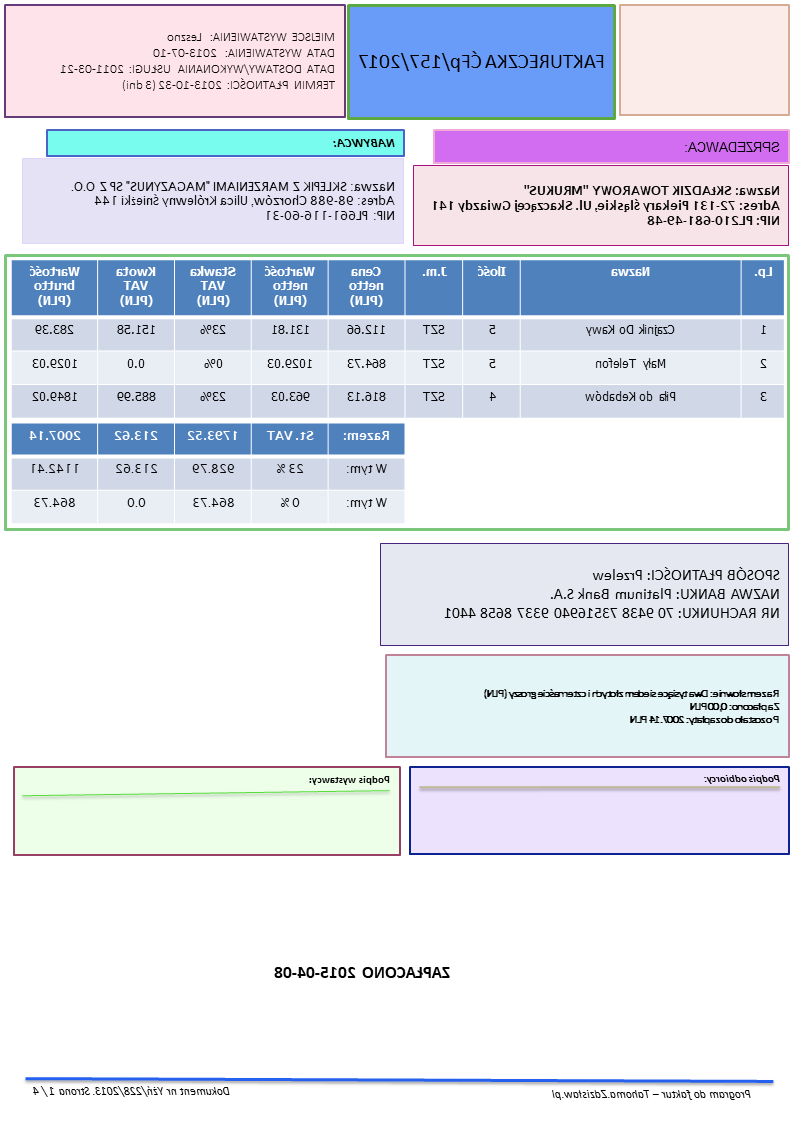Table: (13, 257, 787, 416), (9, 420, 408, 524)
TextBox: (440, 562, 786, 624), (56, 27, 342, 97), (431, 177, 784, 232), (68, 174, 400, 226), (478, 683, 783, 728), (356, 43, 613, 76), (549, 1080, 758, 1107), (270, 958, 459, 984), (26, 1082, 233, 1101), (683, 136, 786, 155), (701, 767, 784, 790), (307, 770, 399, 789), (333, 133, 399, 153)
